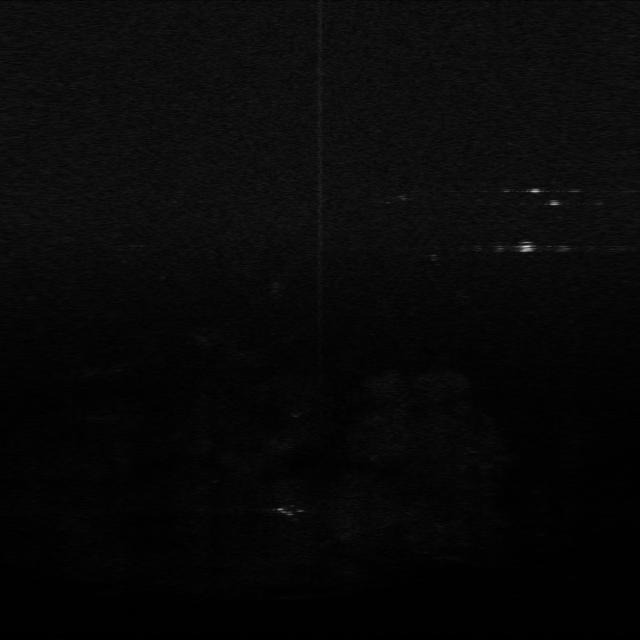rov: (514, 240, 540, 254)
